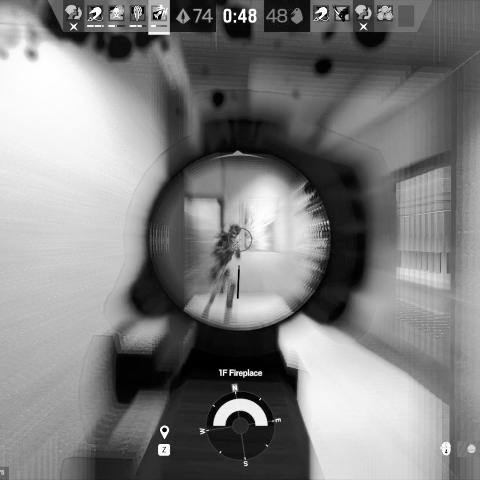Character: (202, 222, 243, 324)
Head: (228, 224, 241, 238)
